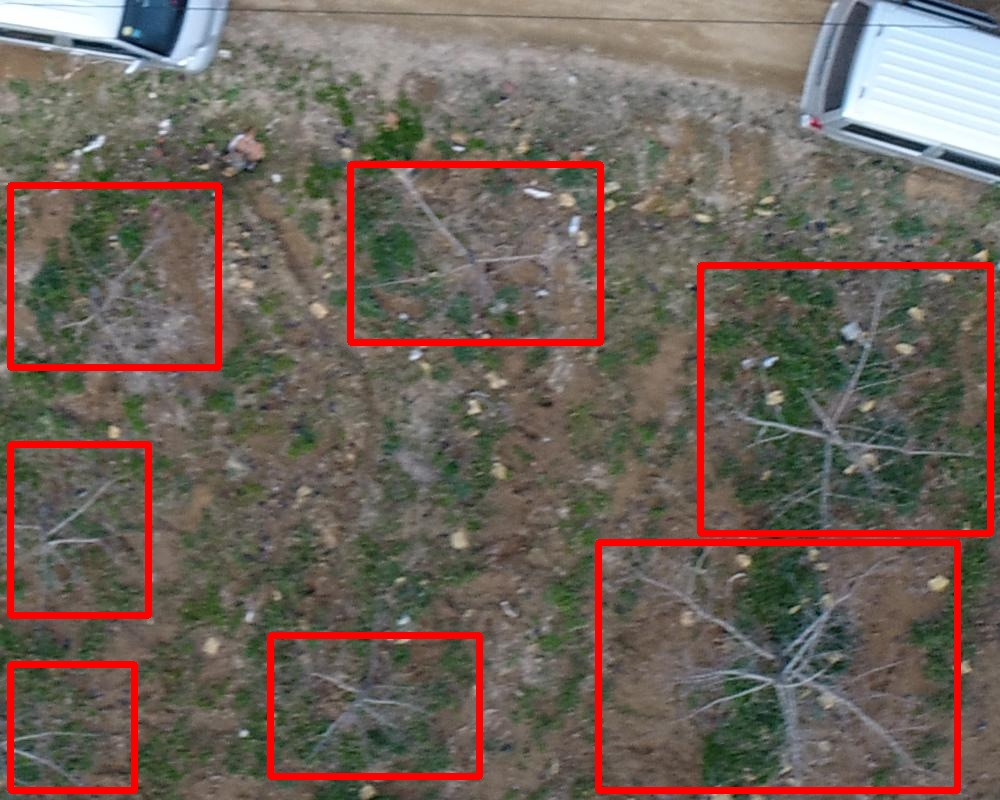apple: (598, 542, 957, 790), (700, 265, 990, 533), (350, 164, 600, 342), (10, 185, 218, 367), (270, 635, 479, 776), (10, 444, 148, 615), (10, 664, 134, 790)
